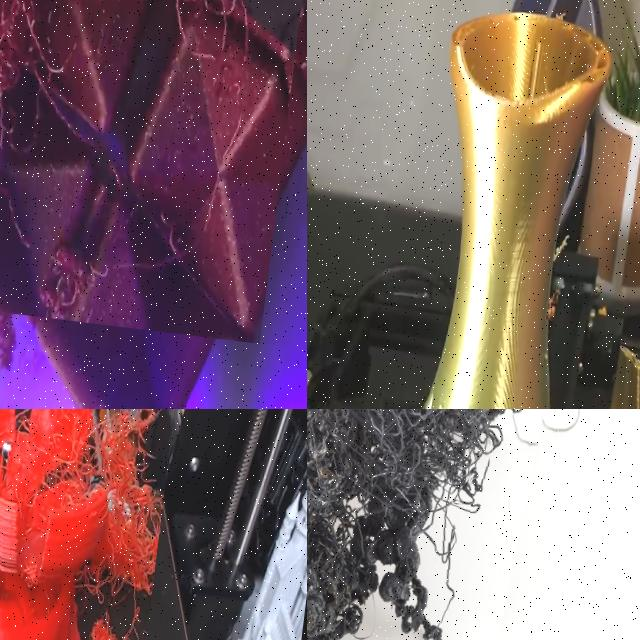spaghetti: (0, 0, 307, 343), (307, 409, 534, 640), (0, 409, 163, 640), (21, 193, 118, 317), (544, 294, 562, 320)
